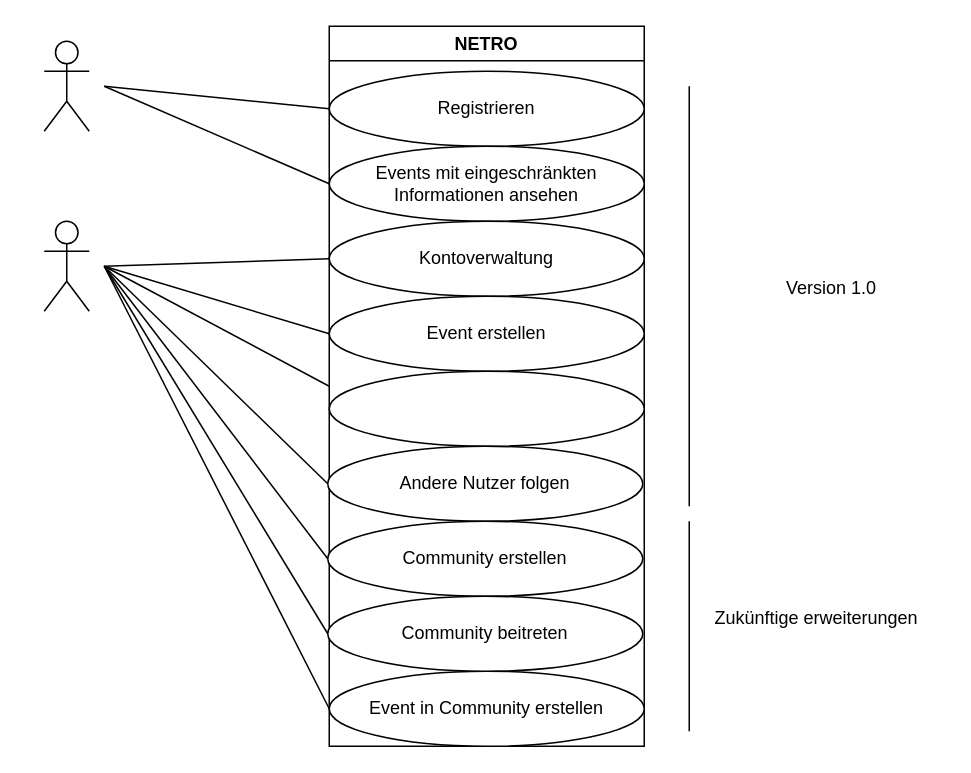
Some shapes in this 971 by 773 pixel diagram are drawn without their labels. The centre of each missing label's shape, as x and y in pixels:
"Events swipen" goes at point (486, 408).
"New User" goes at point (66, 85).
"Reg. User" goes at point (66, 265).
